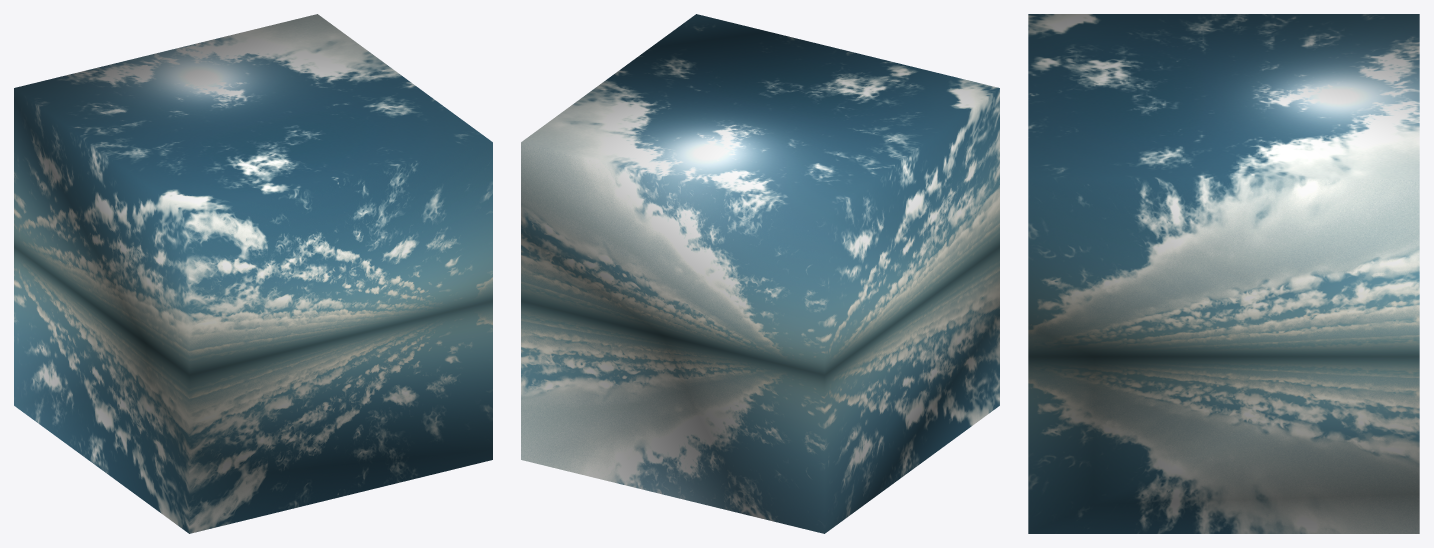
Rendered from mainLevelFBX.fbx.
The picture shows the model from 3 angles, left to right: view 1: azimuth 30°, elevation 25°; view 2: azimuth 150°, elevation 25°; view 3: azimuth 270°, elevation 25°; orthographic projection. The views are drawn at different scales.
Parts seen in each view (by area): view 1: pCube1; view 2: pCube1; view 3: pCube1.
Boxes of the visible parts, x1,y1,x2,y2 form: pCube1: [14, 14, 492, 533]; pCube1: [521, 14, 999, 533]; pCube1: [1028, 14, 1419, 533].
Size of the model in its own units: 3000 by 3000 by 3000.
